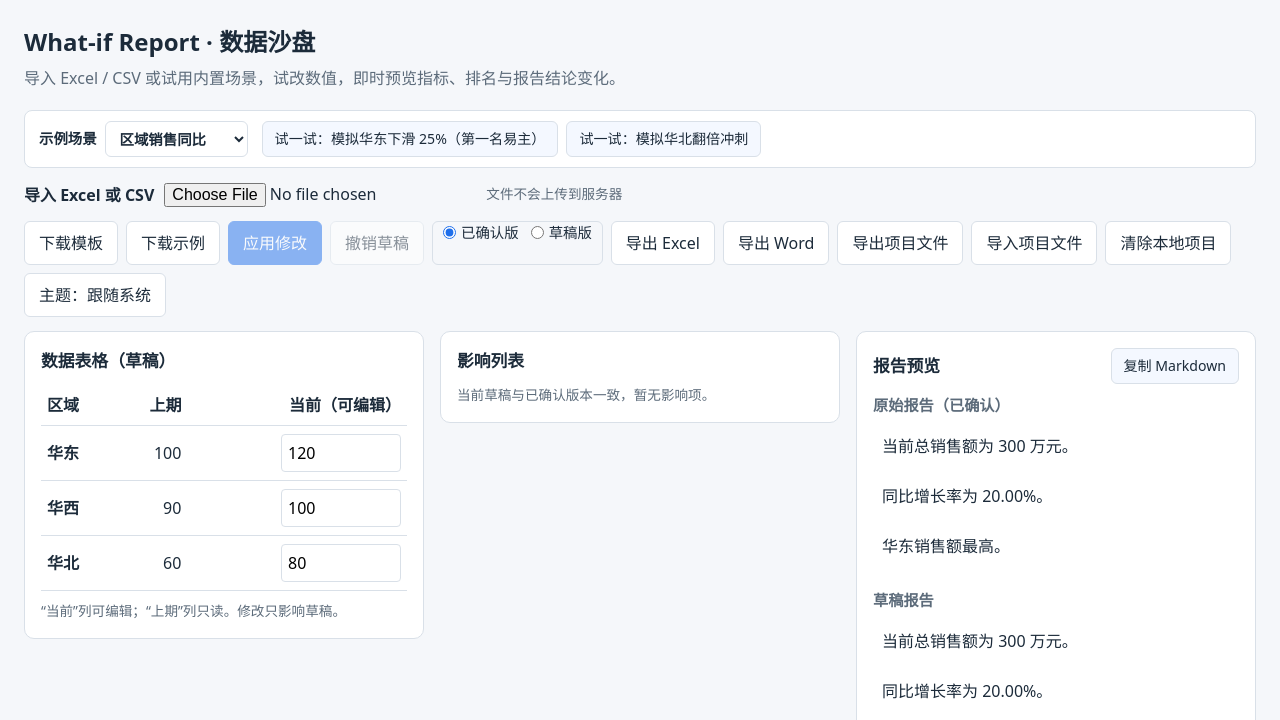
Test: export uses the confirmed baseline › shows a recoverable error without changing the project when export fails
This screenshot has width=1280, height=720.
Step 1. Replace the text in the number field named "华东当前销售额" with "90" → x=341, y=453, box [281, 434, 401, 472]
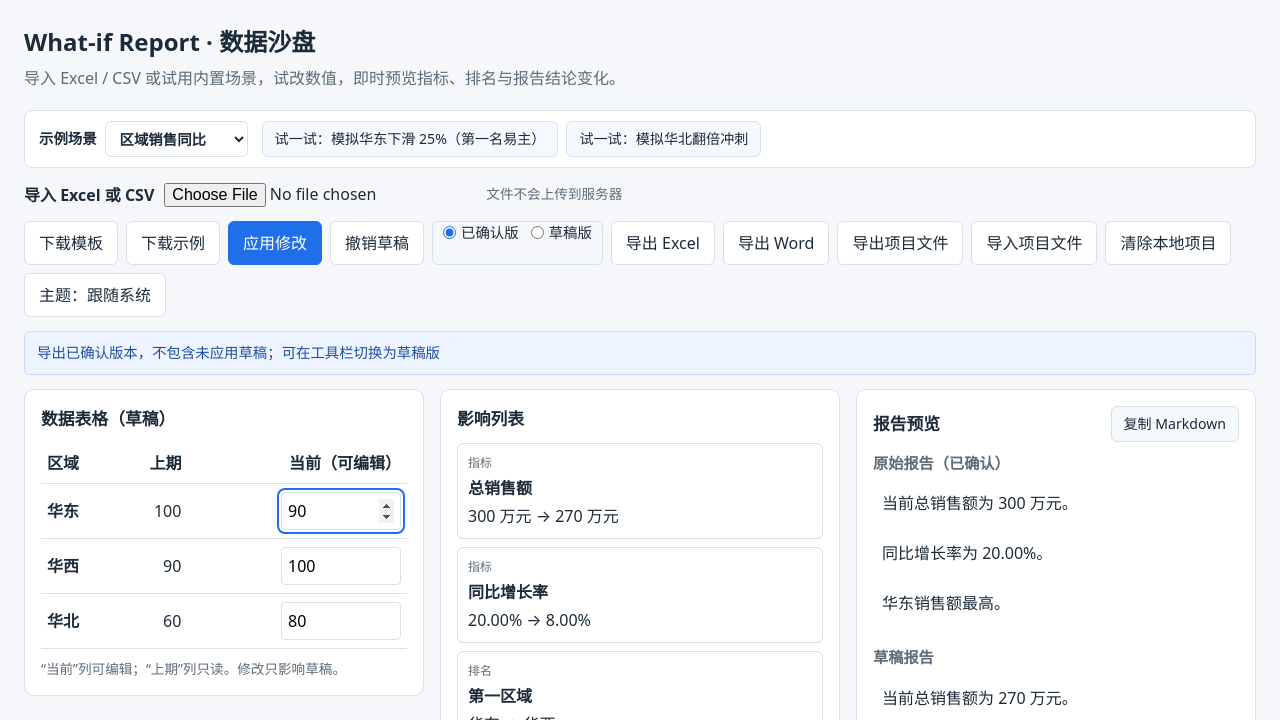
Step 2. Click the button "导出 Excel" → x=663, y=243, box [611, 221, 715, 265]
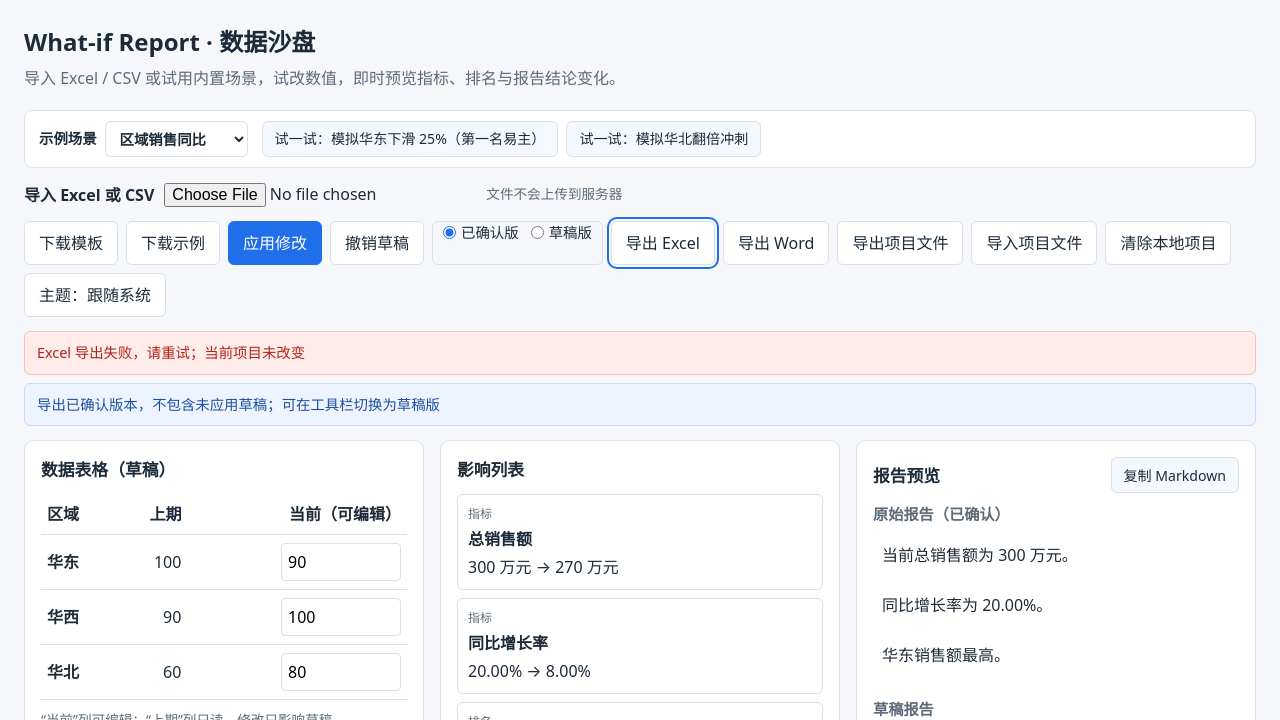
Now the text "300 万元 → 270 万元" is shown, box [468, 555, 619, 579]
Now the message "Excel 导出失败，请重试；当前项目未改变" is shown, box [24, 331, 1256, 375]
